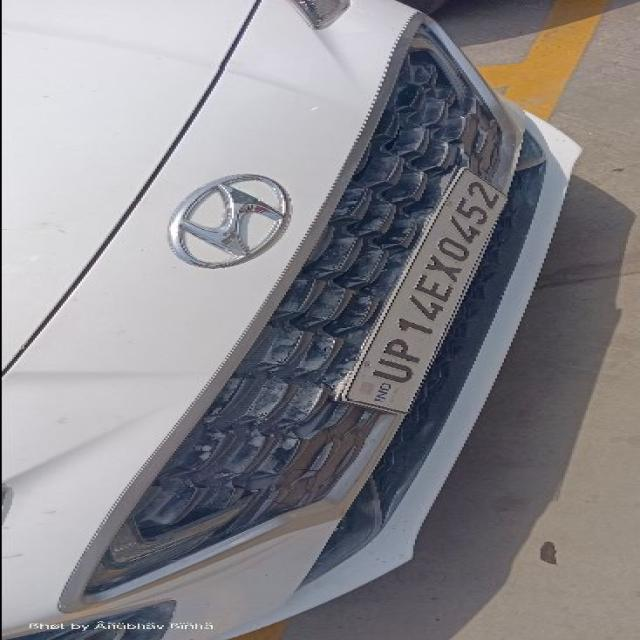license_plate: (3, 0, 580, 638)
